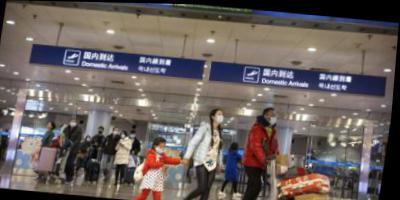NONE: (50, 123, 54, 129)
OK: (269, 110, 281, 124), (216, 110, 228, 124), (72, 120, 79, 128), (116, 129, 122, 135), (133, 132, 139, 138), (102, 129, 106, 134), (124, 133, 128, 138), (89, 137, 93, 141)
WRONG: (160, 142, 170, 154)
